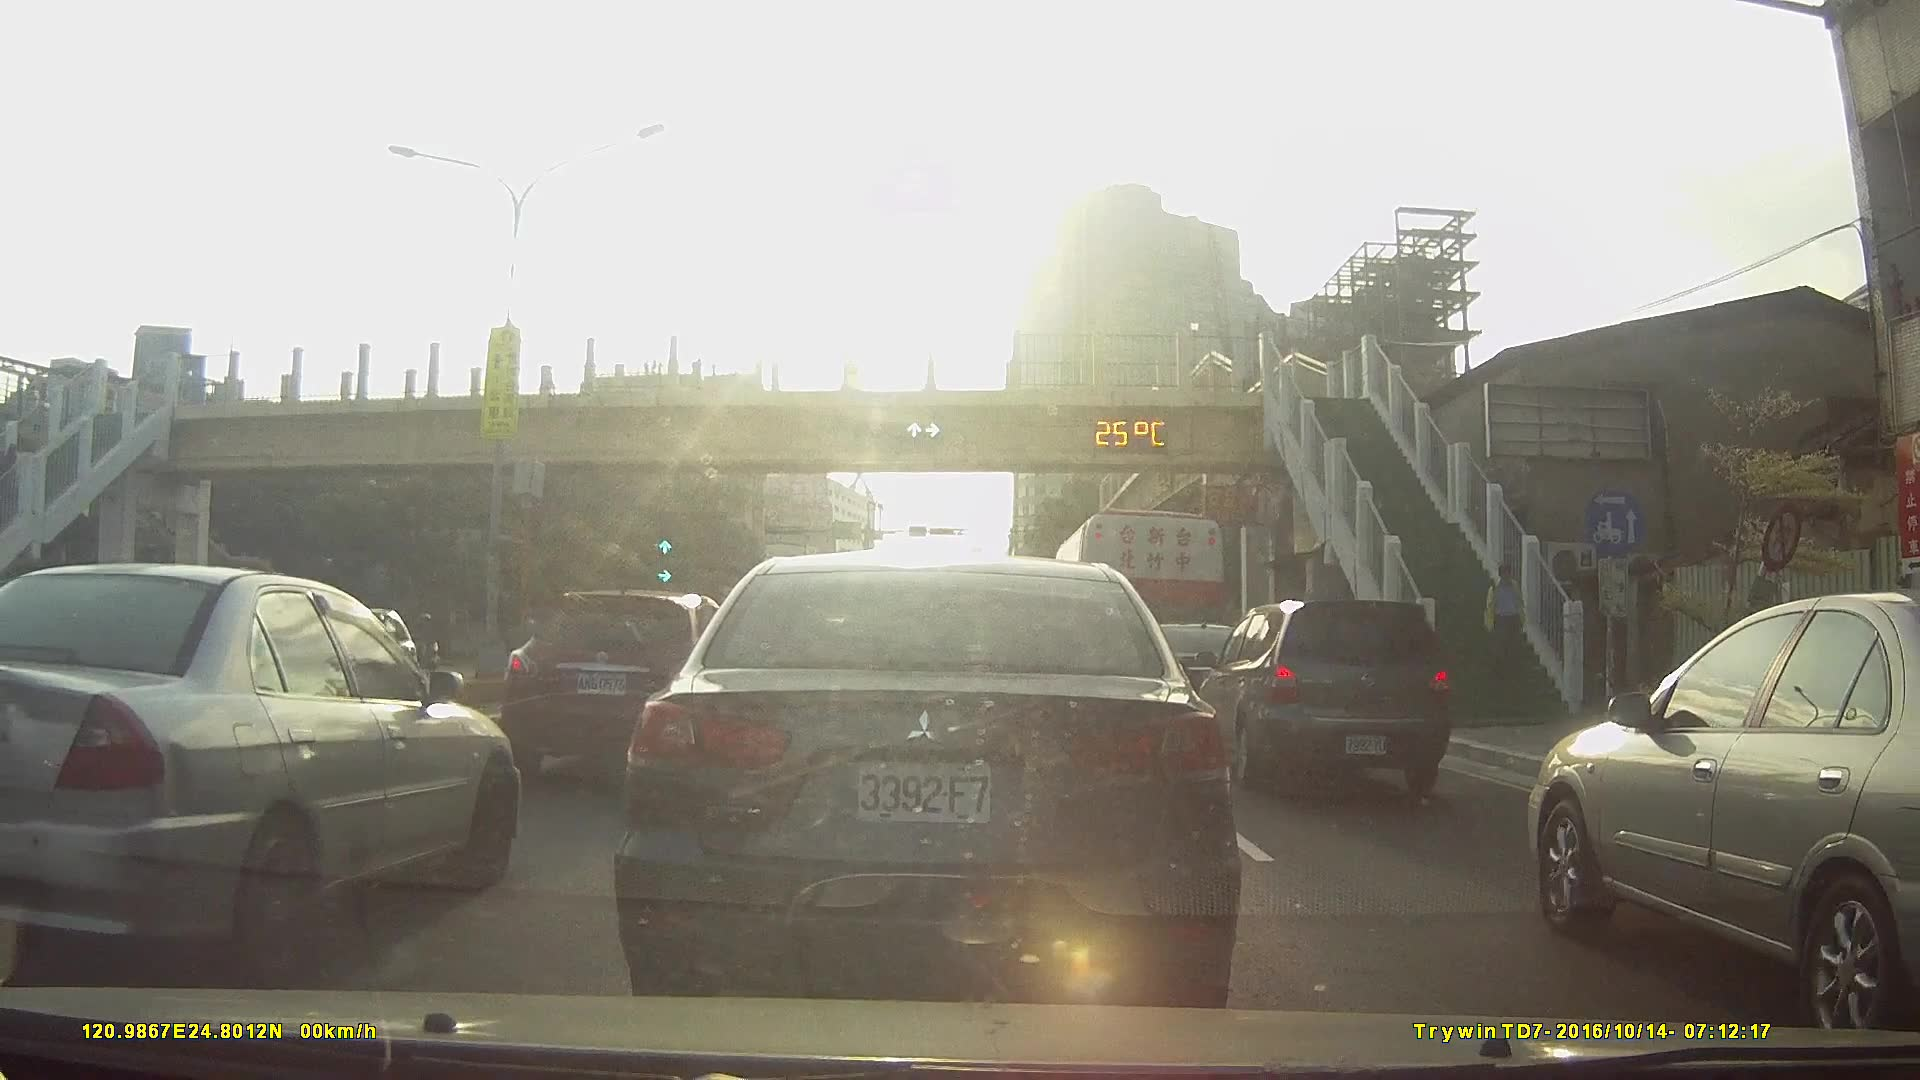pedestrian: (1484, 562, 1533, 681)
vehicle: (617, 552, 1239, 1009), (1, 564, 531, 961), (1518, 586, 1920, 1036), (1192, 598, 1460, 794), (506, 588, 751, 778), (1110, 615, 1270, 735), (257, 603, 422, 709)
